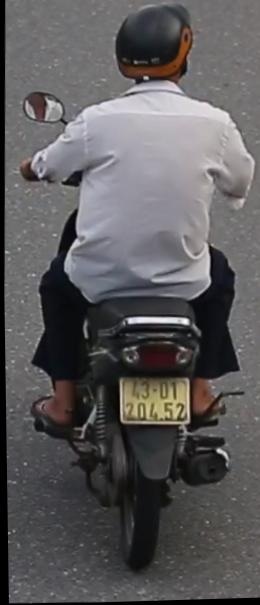LP: (115, 371, 193, 429)
helmet: (109, 0, 198, 110)
